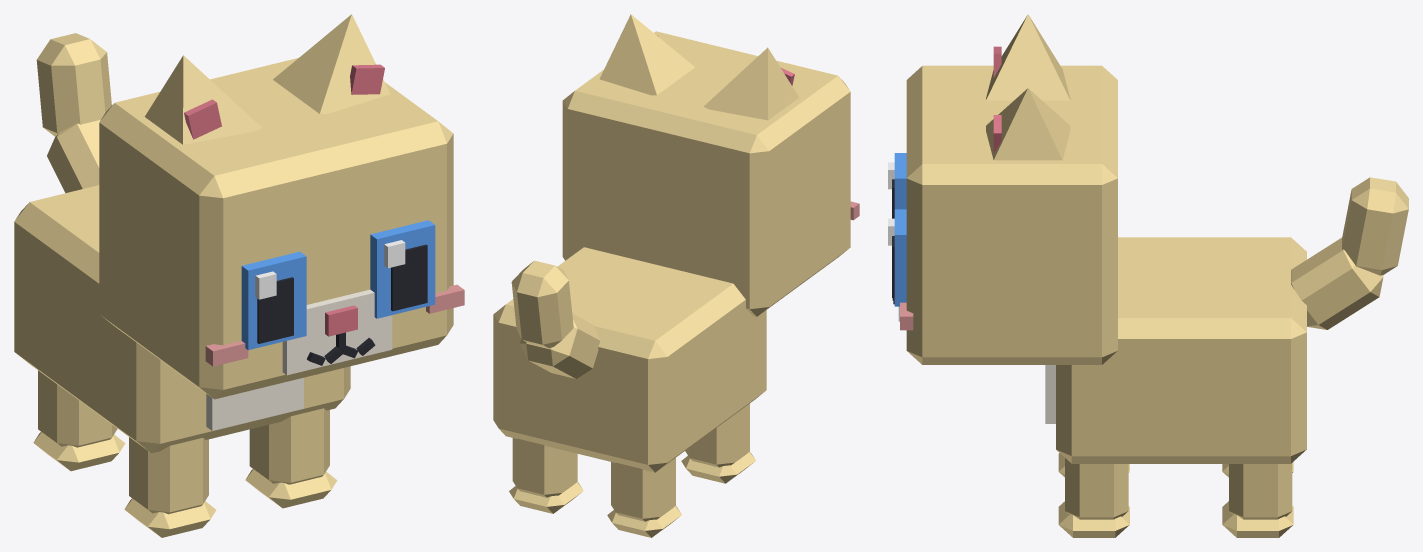
File: CatCafe_Cat_Butter.glb
3 renders of one model, left to right at view 1: azimuth 30°, elevation 25°; view 2: azimuth 150°, elevation 25°; view 3: azimuth 270°, elevation 25°, orthographic. The views are drawn at different scales.
Parts seen in each view (by area): view 1: CatCafe_Cat_Butter_Head, CatCafe_Cat_Butter_Body, CatCafe_Cat_Butter_Tail, CatCafe_Cat_Butter_LegF2, CatCafe_Cat_Butter_LegF1, CatCafe_Cat_Butter_EarL, CatCafe_Cat_Butter_Eye2, CatCafe_Cat_Butter_Eye1, CatCafe_Cat_Butter_EarR, CatCafe_Cat_Butter_LegB2; view 2: CatCafe_Cat_Butter_Head, CatCafe_Cat_Butter_Body, CatCafe_Cat_Butter_Tail, CatCafe_Cat_Butter_LegB2, CatCafe_Cat_Butter_EarL, CatCafe_Cat_Butter_LegB1, CatCafe_Cat_Butter_EarR, CatCafe_Cat_Butter_LegF2; view 3: CatCafe_Cat_Butter_Head, CatCafe_Cat_Butter_Body, CatCafe_Cat_Butter_Tail, CatCafe_Cat_Butter_LegF1, CatCafe_Cat_Butter_LegB1, CatCafe_Cat_Butter_EarL, CatCafe_Cat_Butter_EarR, CatCafe_Cat_Butter_Eye1, CatCafe_Cat_Butter_Eye2.
Boxes of the visible parts, x1,y1,x2,y2 form: CatCafe_Cat_Butter_Head: (99, 58, 464, 399); CatCafe_Cat_Butter_Body: (14, 185, 350, 453); CatCafe_Cat_Butter_Tail: (36, 33, 111, 193); CatCafe_Cat_Butter_LegF2: (124, 437, 216, 537); CatCafe_Cat_Butter_LegF1: (245, 408, 337, 508); CatCafe_Cat_Butter_EarL: (273, 14, 390, 113); CatCafe_Cat_Butter_Eye2: (241, 251, 306, 350); CatCafe_Cat_Butter_Eye1: (370, 220, 435, 318); CatCafe_Cat_Butter_EarR: (145, 55, 261, 144); CatCafe_Cat_Butter_LegB2: (33, 370, 125, 471); CatCafe_Cat_Butter_Head: (562, 31, 859, 316); CatCafe_Cat_Butter_Body: (493, 247, 766, 472); CatCafe_Cat_Butter_Tail: (511, 260, 600, 378); CatCafe_Cat_Butter_LegB2: (607, 458, 681, 537); CatCafe_Cat_Butter_EarL: (599, 14, 694, 95); CatCafe_Cat_Butter_LegB1: (509, 438, 583, 513); CatCafe_Cat_Butter_EarR: (703, 47, 798, 120); CatCafe_Cat_Butter_LegF2: (681, 403, 755, 483); CatCafe_Cat_Butter_Head: (892, 65, 1117, 364); CatCafe_Cat_Butter_Body: (1045, 237, 1306, 463); CatCafe_Cat_Butter_Tail: (1291, 177, 1408, 329); CatCafe_Cat_Butter_LegF1: (1058, 458, 1129, 537); CatCafe_Cat_Butter_LegB1: (1222, 463, 1293, 537); CatCafe_Cat_Butter_EarL: (986, 88, 1070, 160); CatCafe_Cat_Butter_EarR: (986, 14, 1070, 100); CatCafe_Cat_Butter_Eye1: (888, 209, 906, 306); CatCafe_Cat_Butter_Eye2: (888, 153, 906, 218).
Size of the model in its own units: 1 by 1.89 by 1.97.
1 material, 1 textured.
